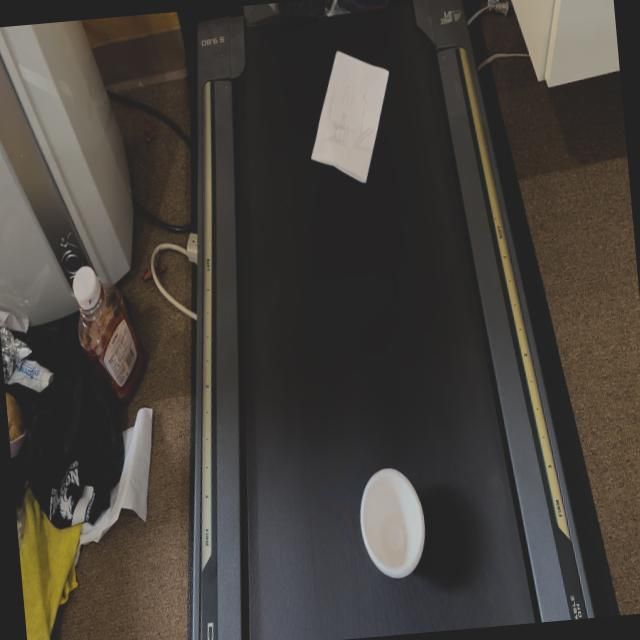Recycle: (303, 44, 402, 192)
Trash: (357, 469, 430, 582)
